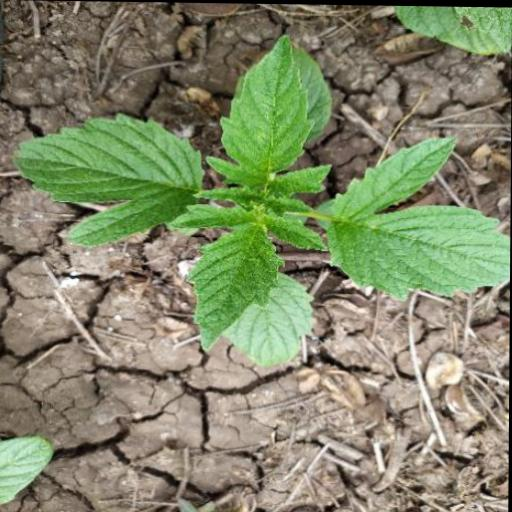crop: (9, 31, 512, 364)
